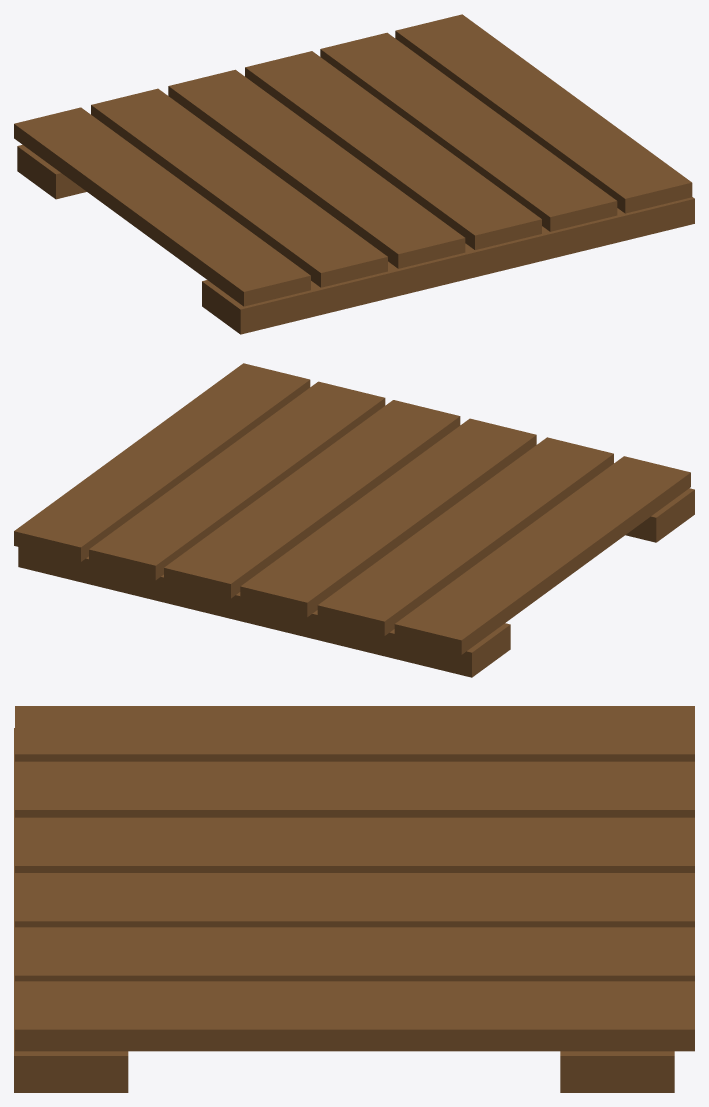
Rendered from WoodPallet.fbx.
3 renders of one model, top to bottom at view 1: azimuth 30°, elevation 25°; view 2: azimuth 150°, elevation 25°; view 3: azimuth 270°, elevation 25°, orthographic. The views are drawn at different scales.
Visible parts, largest first — view 1: Pallet; view 2: Pallet; view 3: Pallet.
Boxes of the visible parts, x1,y1,x2,y2 form: Pallet: [14, 14, 694, 334]; Pallet: [14, 363, 694, 677]; Pallet: [14, 706, 694, 1092].
Bounding box in the file's own units: 633 × 55.33 × 556.
